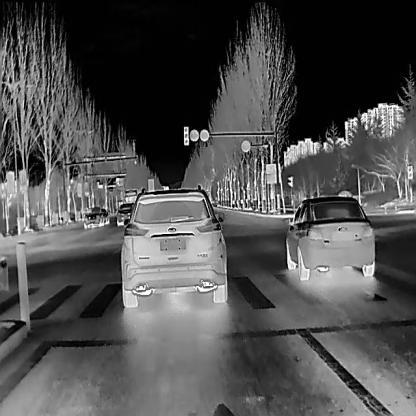car: (120, 183, 227, 307), (284, 194, 374, 280), (83, 204, 103, 227), (115, 201, 134, 225)
